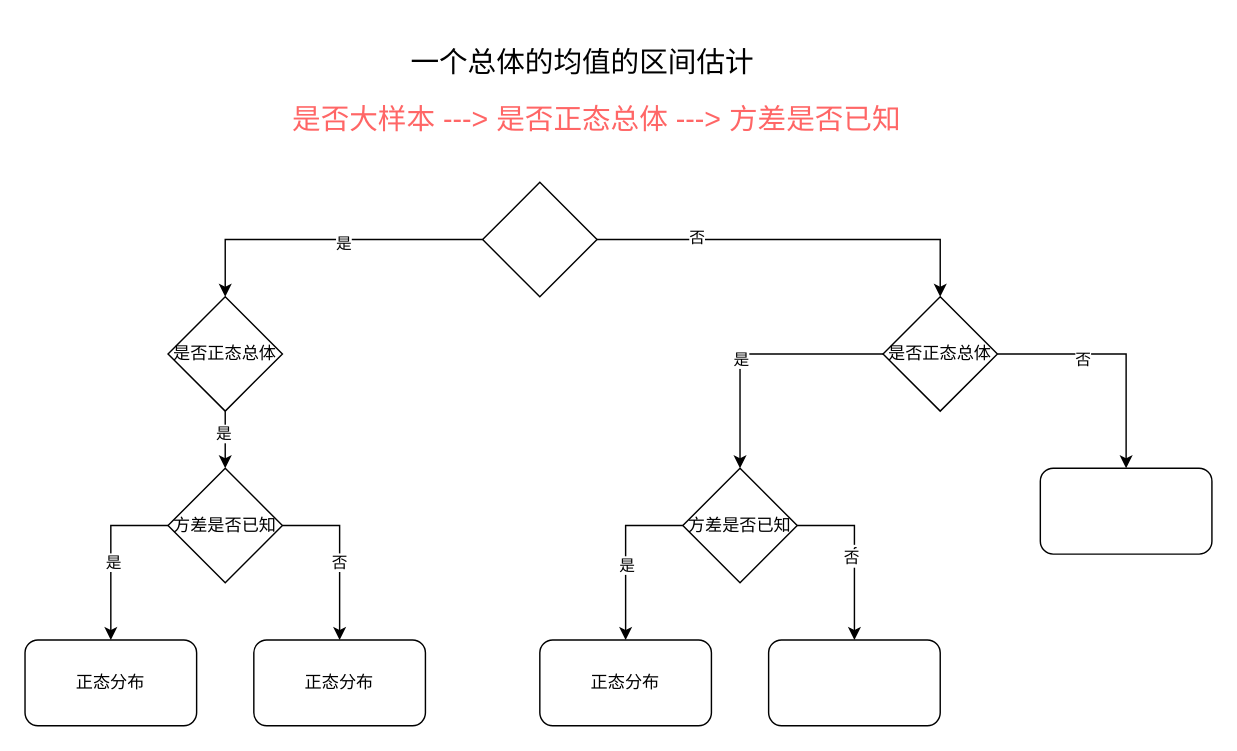
This 1237x751 diagram has some shape labels left out. The shapes that lost their labels are listed below. From the top down, each one's centre as x and y in pixels, then its label:
pixel 539 239: 是否大样本
pixel 853 682: t分布
